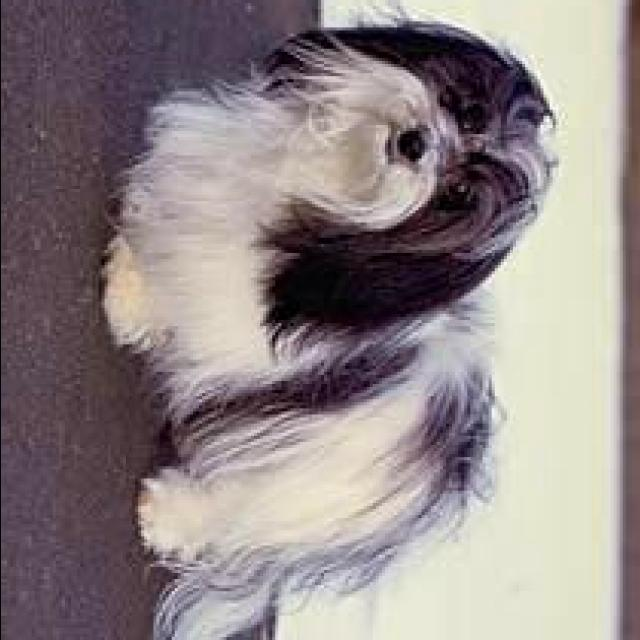husky: (88, 3, 558, 640)
